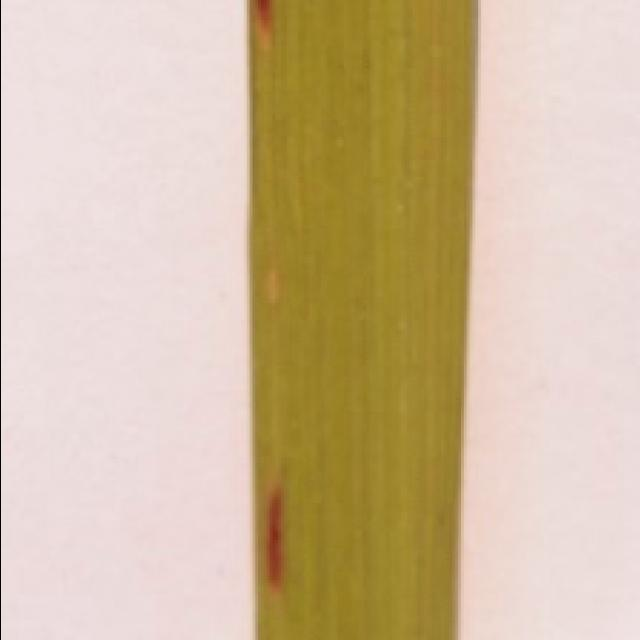Unhealthy: (262, 487, 287, 596), (250, 0, 271, 42)
